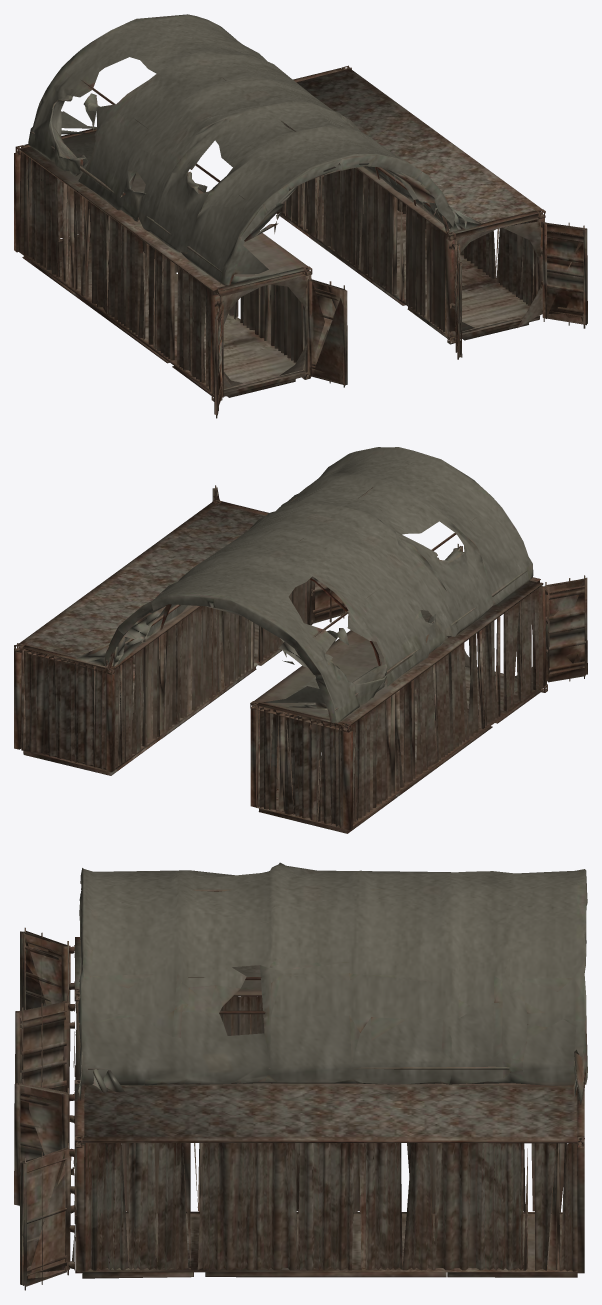
Rendered from quonset.glb.
3 views of the same model, one above another, from view 1: azimuth 30°, elevation 25°; view 2: azimuth 150°, elevation 25°; view 3: azimuth 270°, elevation 25° (orthographic). The views are drawn at different scales.
Visible parts, largest first — view 1: quonset; view 2: quonset; view 3: quonset.
Boxes of the visible parts, x1,y1,x2,y2 form: quonset: [14, 14, 587, 418]; quonset: [14, 447, 587, 833]; quonset: [14, 862, 587, 1290].
Size of the model in its own units: 6.32 by 3.4 by 6.55.
1 material, 1 textured.
